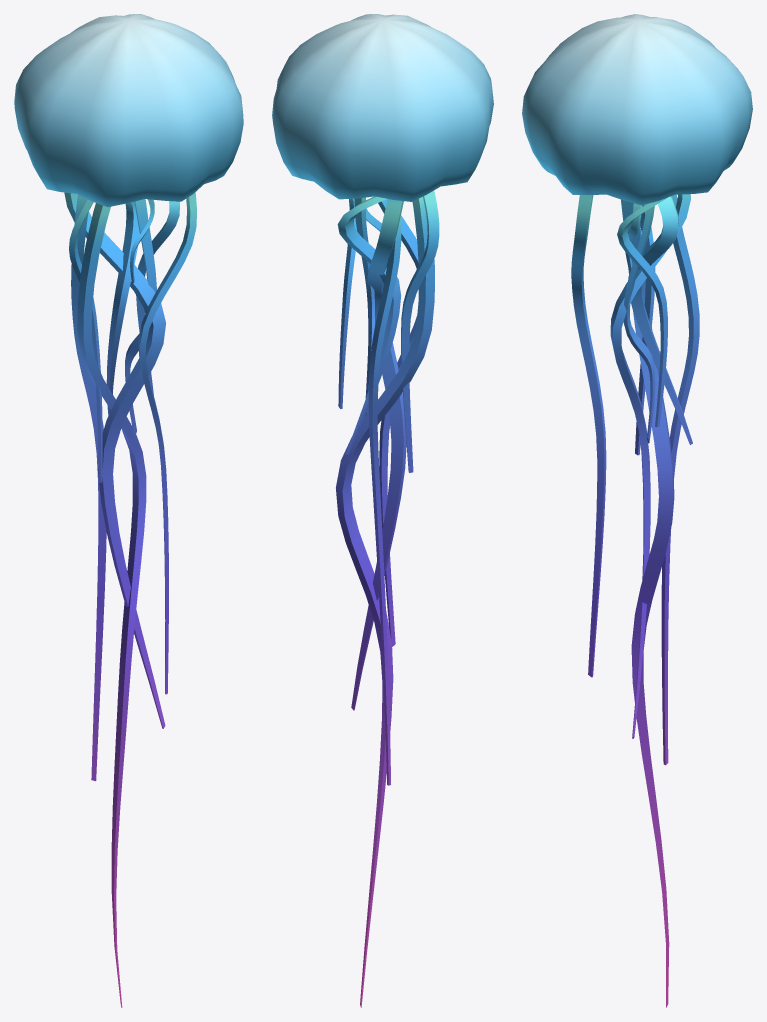
The model's file is JellyFish03.fbx.
The picture shows the model from 3 angles, left to right: view 1: azimuth 30°, elevation 25°; view 2: azimuth 150°, elevation 25°; view 3: azimuth 270°, elevation 25°; orthographic projection. The views are drawn at different scales.
Parts seen in each view (by area): view 1: JellyFish03; view 2: JellyFish03; view 3: JellyFish03.
Boxes of the visible parts, box(x1,y1,x2,y2) form: JellyFish03: box(14, 14, 243, 1007); JellyFish03: box(272, 14, 493, 1007); JellyFish03: box(522, 14, 752, 1007).
Size of the model in its own units: 0.3487 by 1.64 by 0.3487.
1 material, 1 textured.
